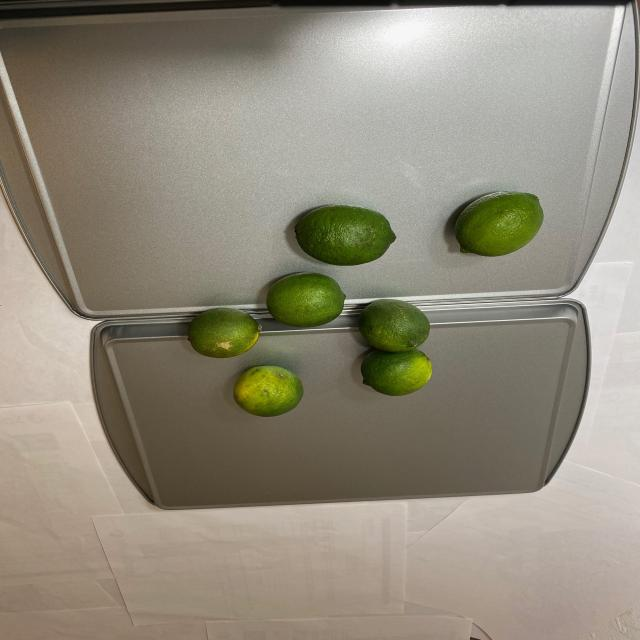lemon: (186, 182, 546, 421)
